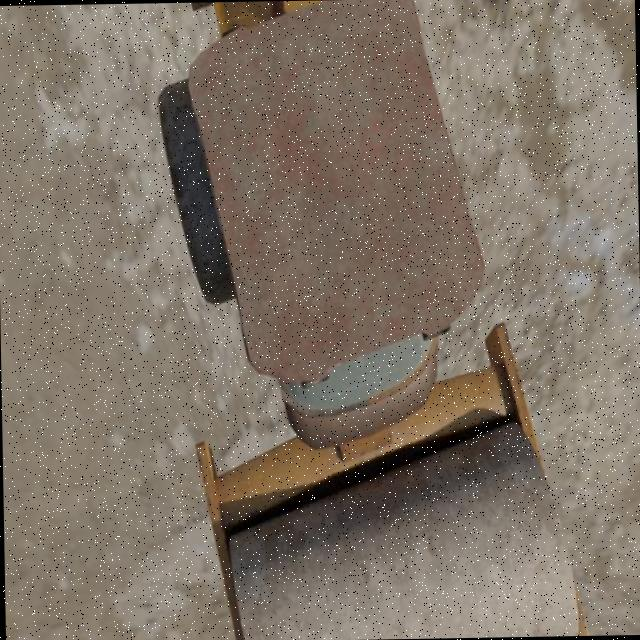Roller: (155, 0, 591, 640)
